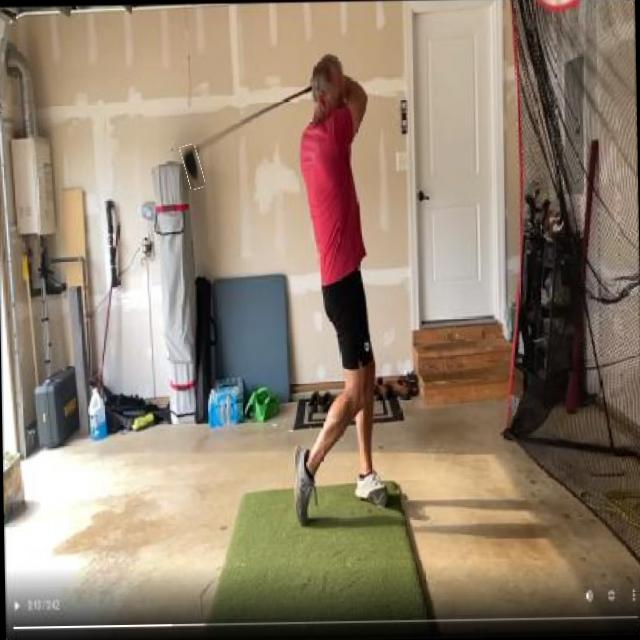club head: (181, 143, 203, 189)
